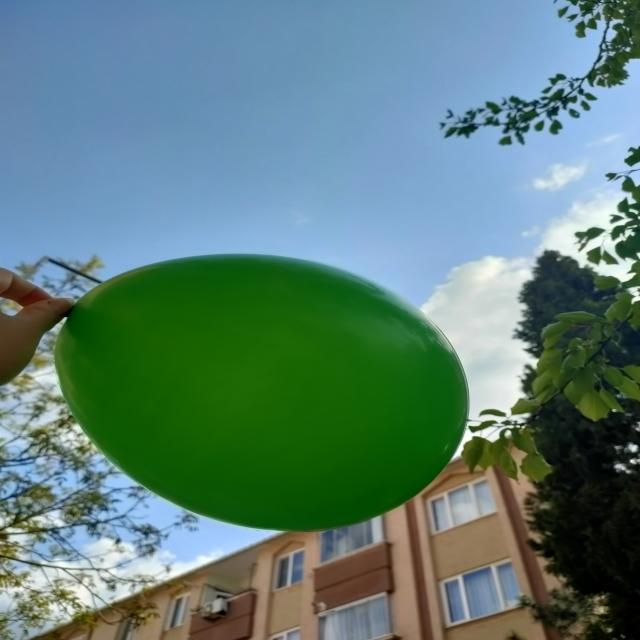green: (52, 254, 468, 536)
